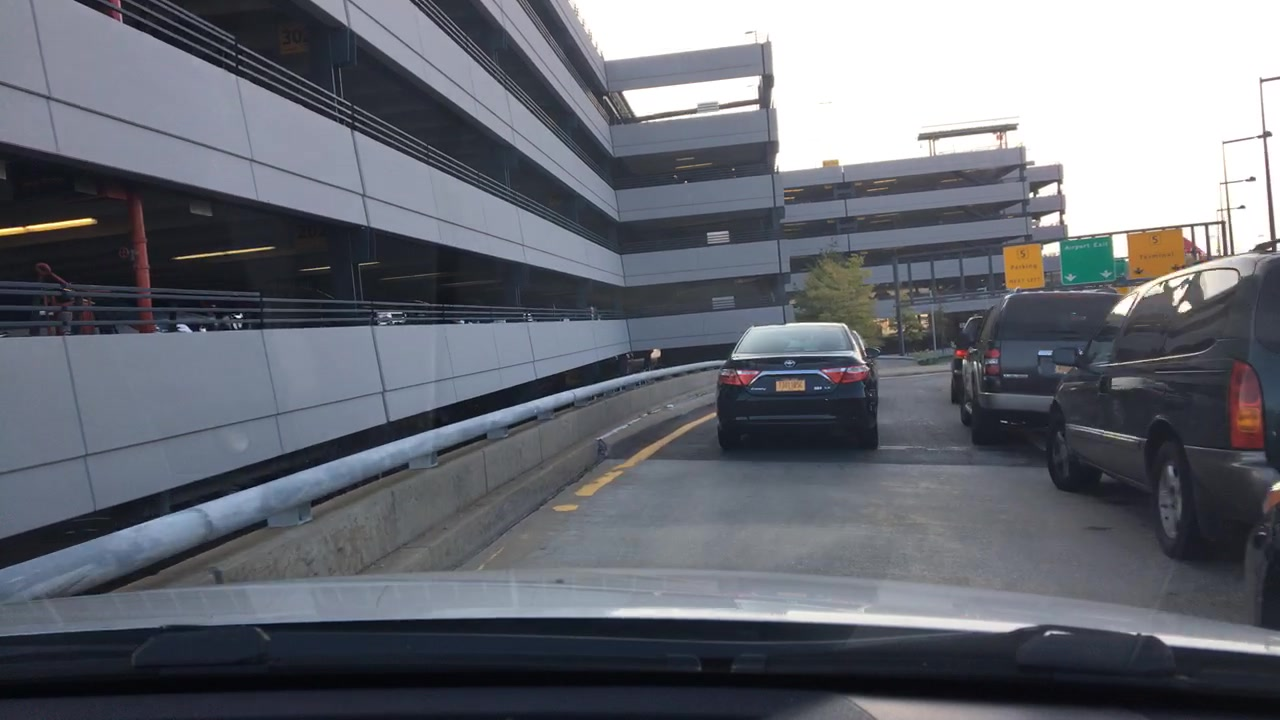licence: (773, 375, 807, 394)
